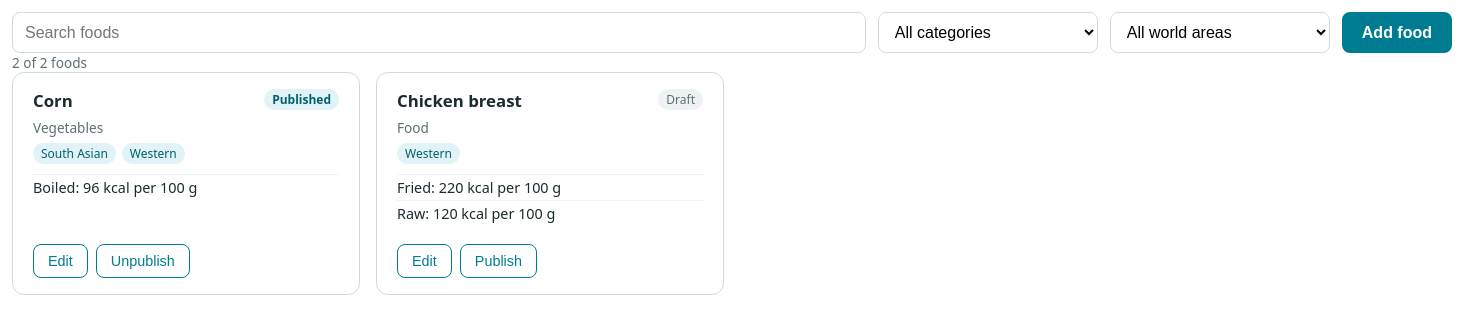
Test: FoodsPage list › filters by search and category
The image size is (1464, 312).
Expected: the heading "Corn" is shown, [33,89,73,112]
Type "chick" into the search field labelled "Search foods" at (439, 32), box [12,12,866,53]
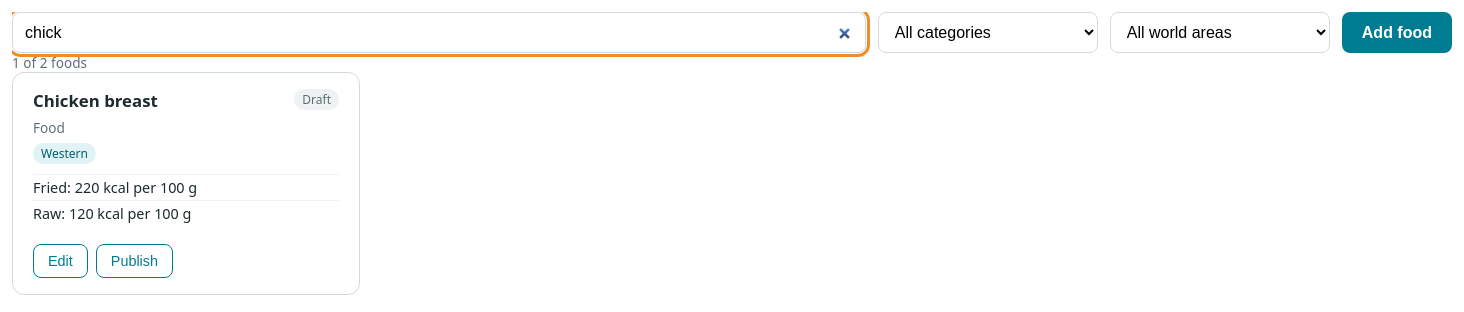
Expected: the heading "Chicken breast" is shown, [33,89,158,112]
Now the heading "Corn" is gone
Clear the search field named "Search foods" at (439, 32), box [12,12,866,53]
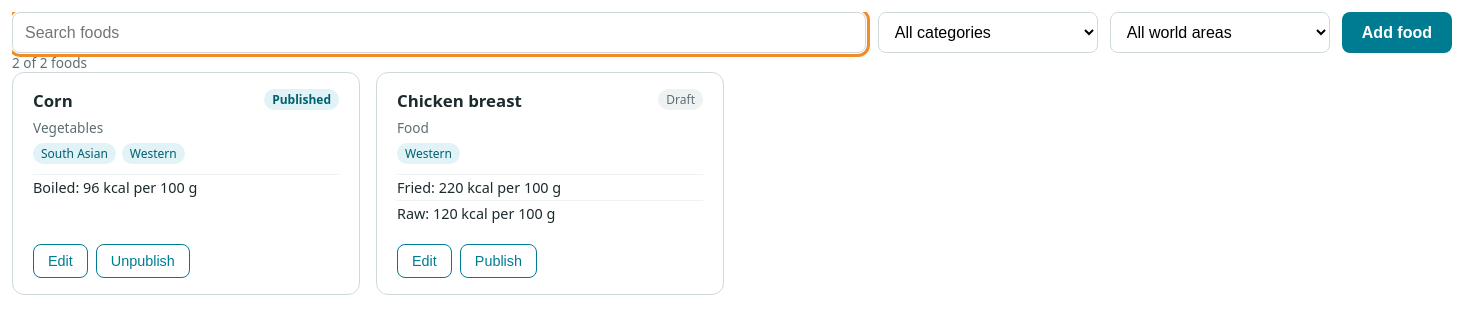
Select "Vegetables" in the dropdown named "Filter by category" at (988, 32), box [878,12,1098,53]
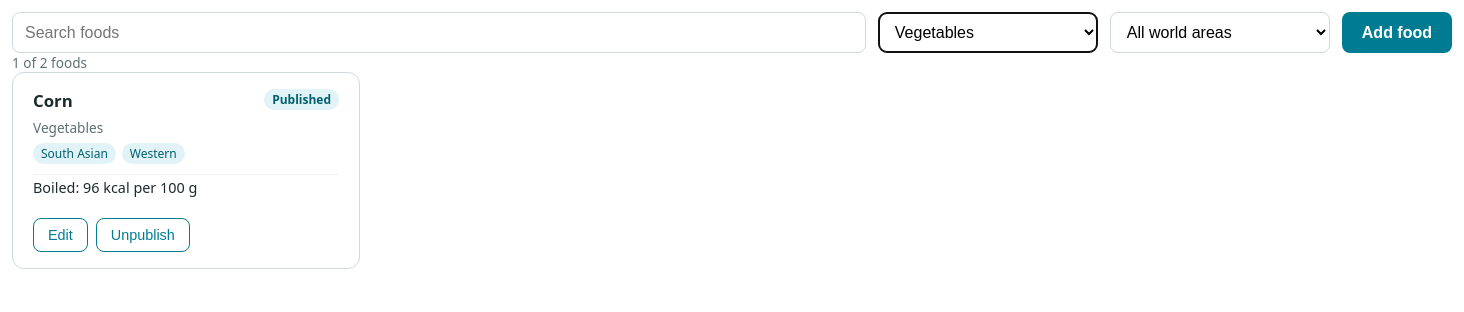
Now the heading "Corn" is shown, box [33,89,73,112]
Now the heading "Chicken breast" is gone
